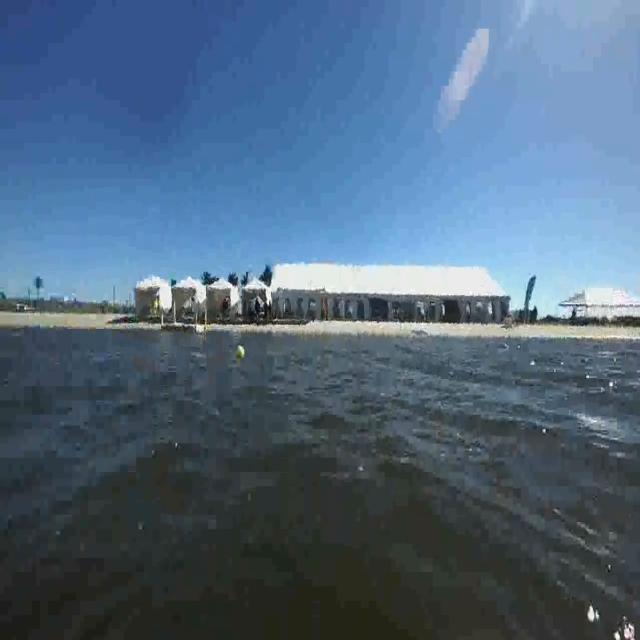yellow-buoy: (238, 345, 245, 358)
